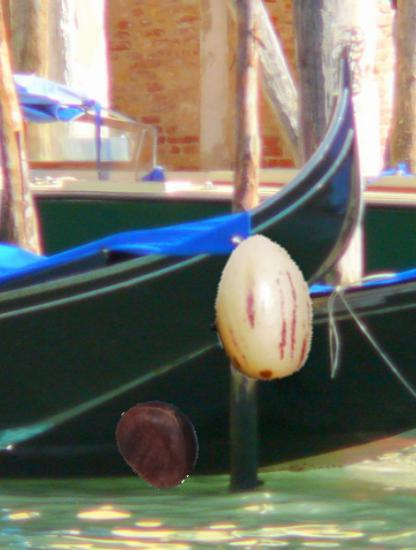Chestnut: (113, 396, 204, 487)
Pepino: (186, 235, 335, 384)
